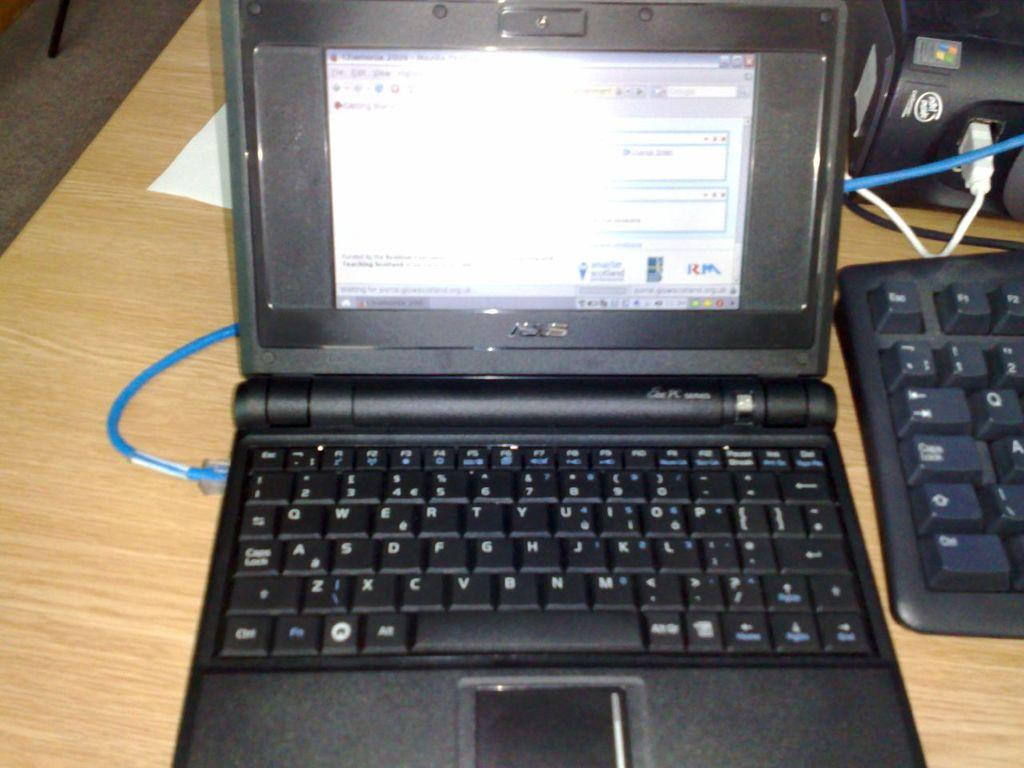Computer-keyboard: (832, 246, 1023, 638)
Laptop: (167, 0, 922, 767)
